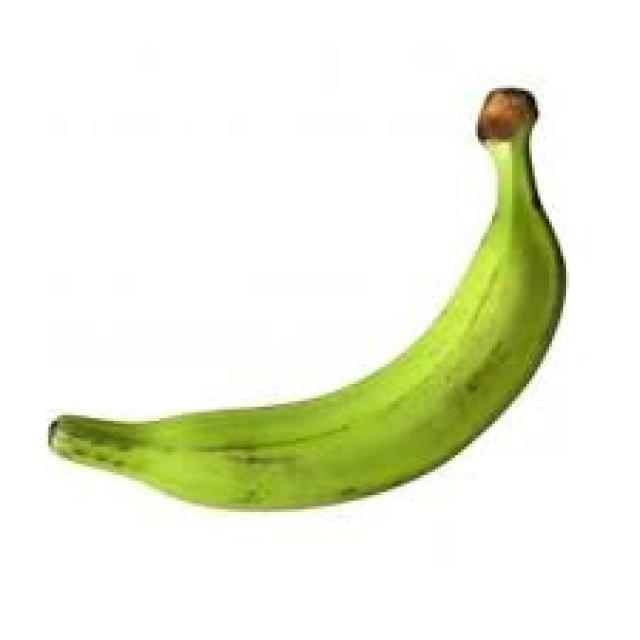non_orange: (38, 90, 567, 520)
